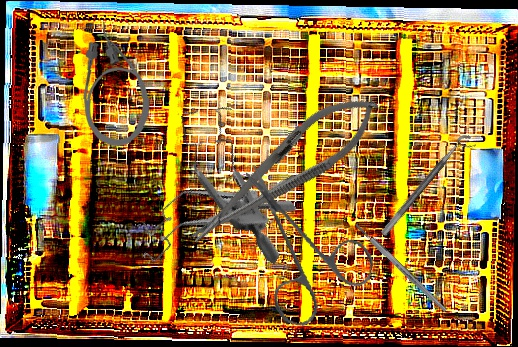Cannula: (80, 20, 152, 148)
Fixation Ring: (379, 130, 479, 244)
Iris Scissors: (217, 164, 388, 338)
Needle Holder: (176, 79, 391, 260)
Scalpel Handle: (353, 221, 448, 314)
Speculum: (141, 88, 332, 265), (124, 138, 299, 307)
